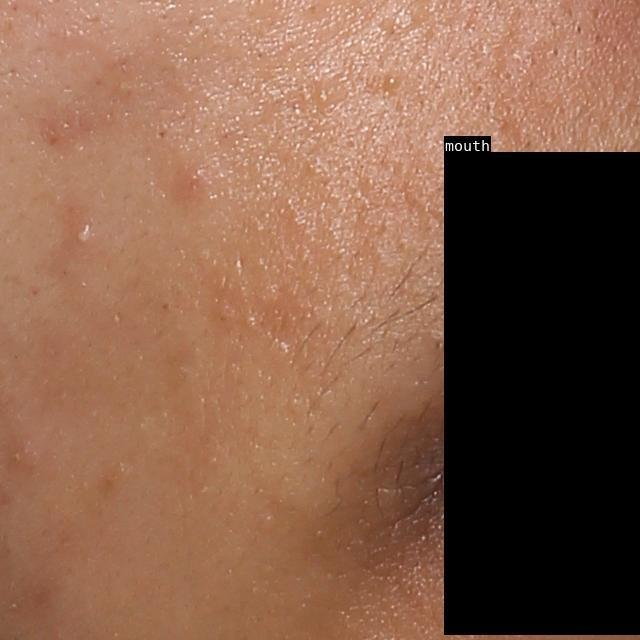comedo: (387, 74, 400, 91)
papule: (168, 162, 217, 202)
pustule: (68, 222, 97, 247)
